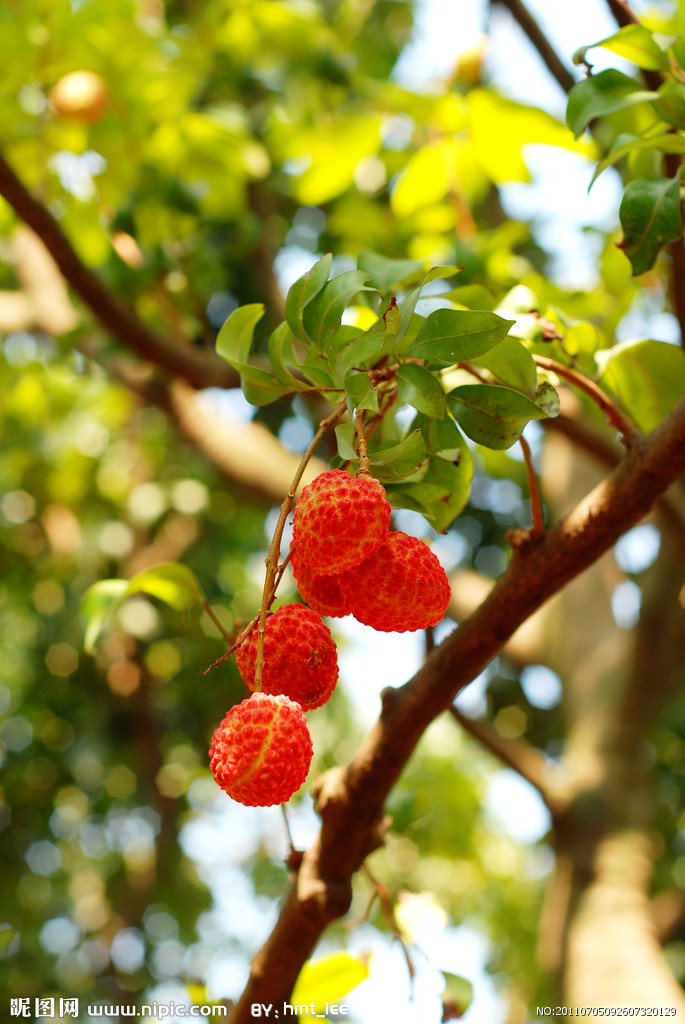litchi: (211, 474, 444, 805)
stem: (335, 338, 628, 425)
